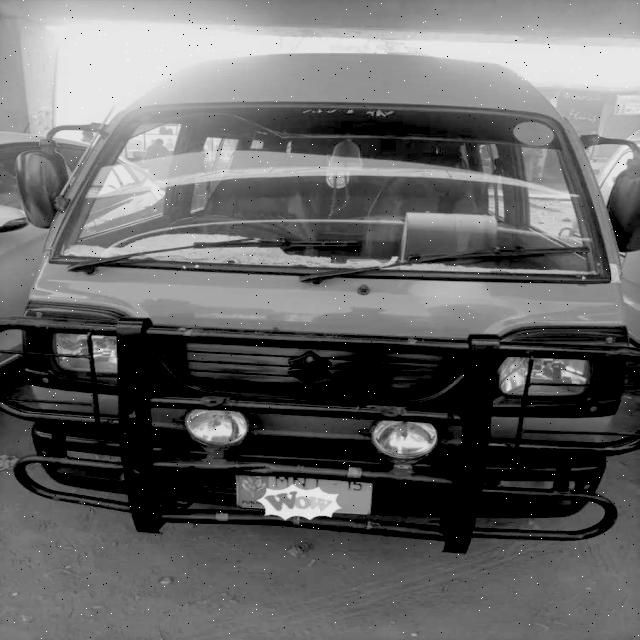Van: (0, 50, 640, 544)
